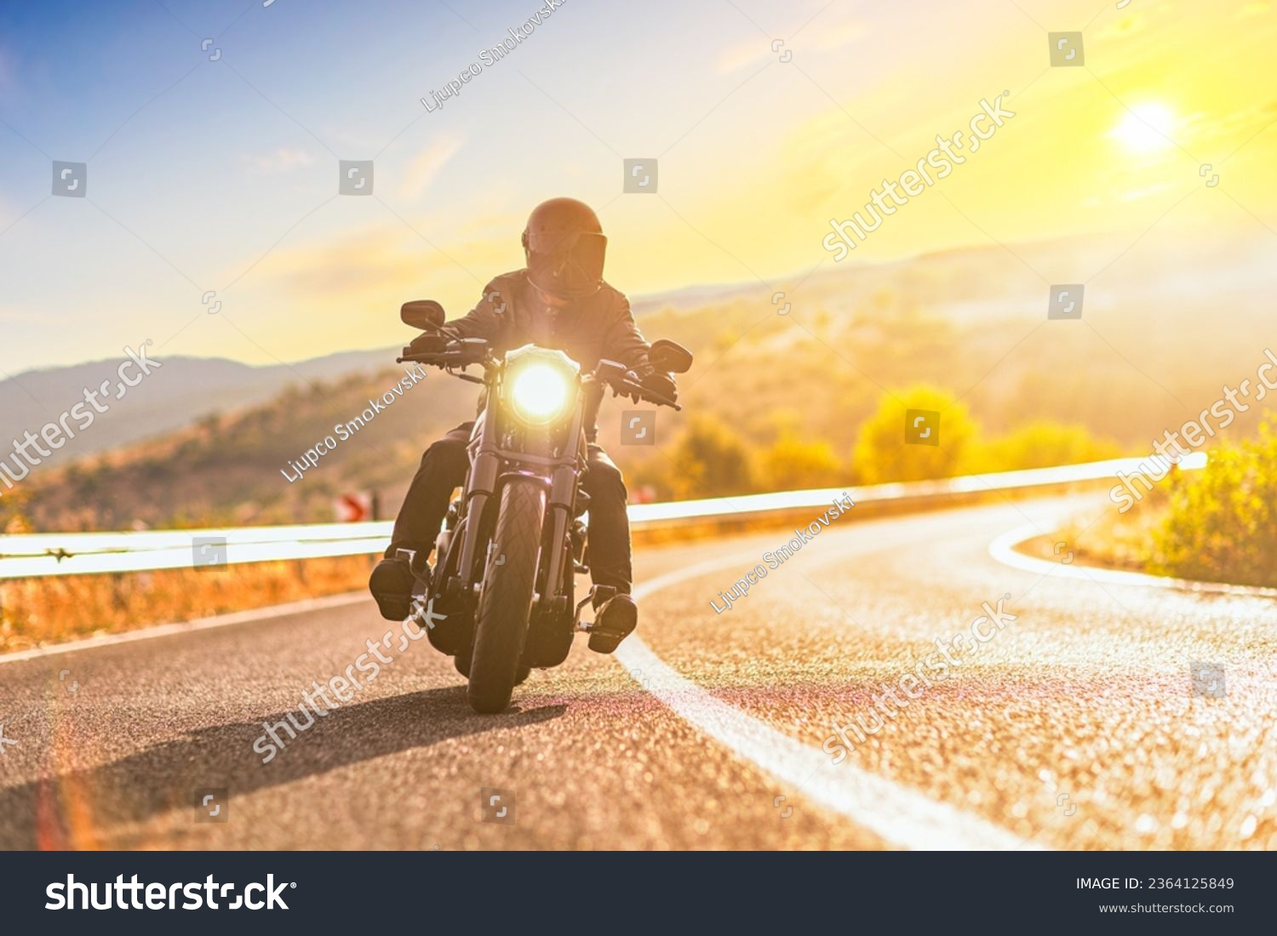Motorcycle: (370, 324, 685, 699)
